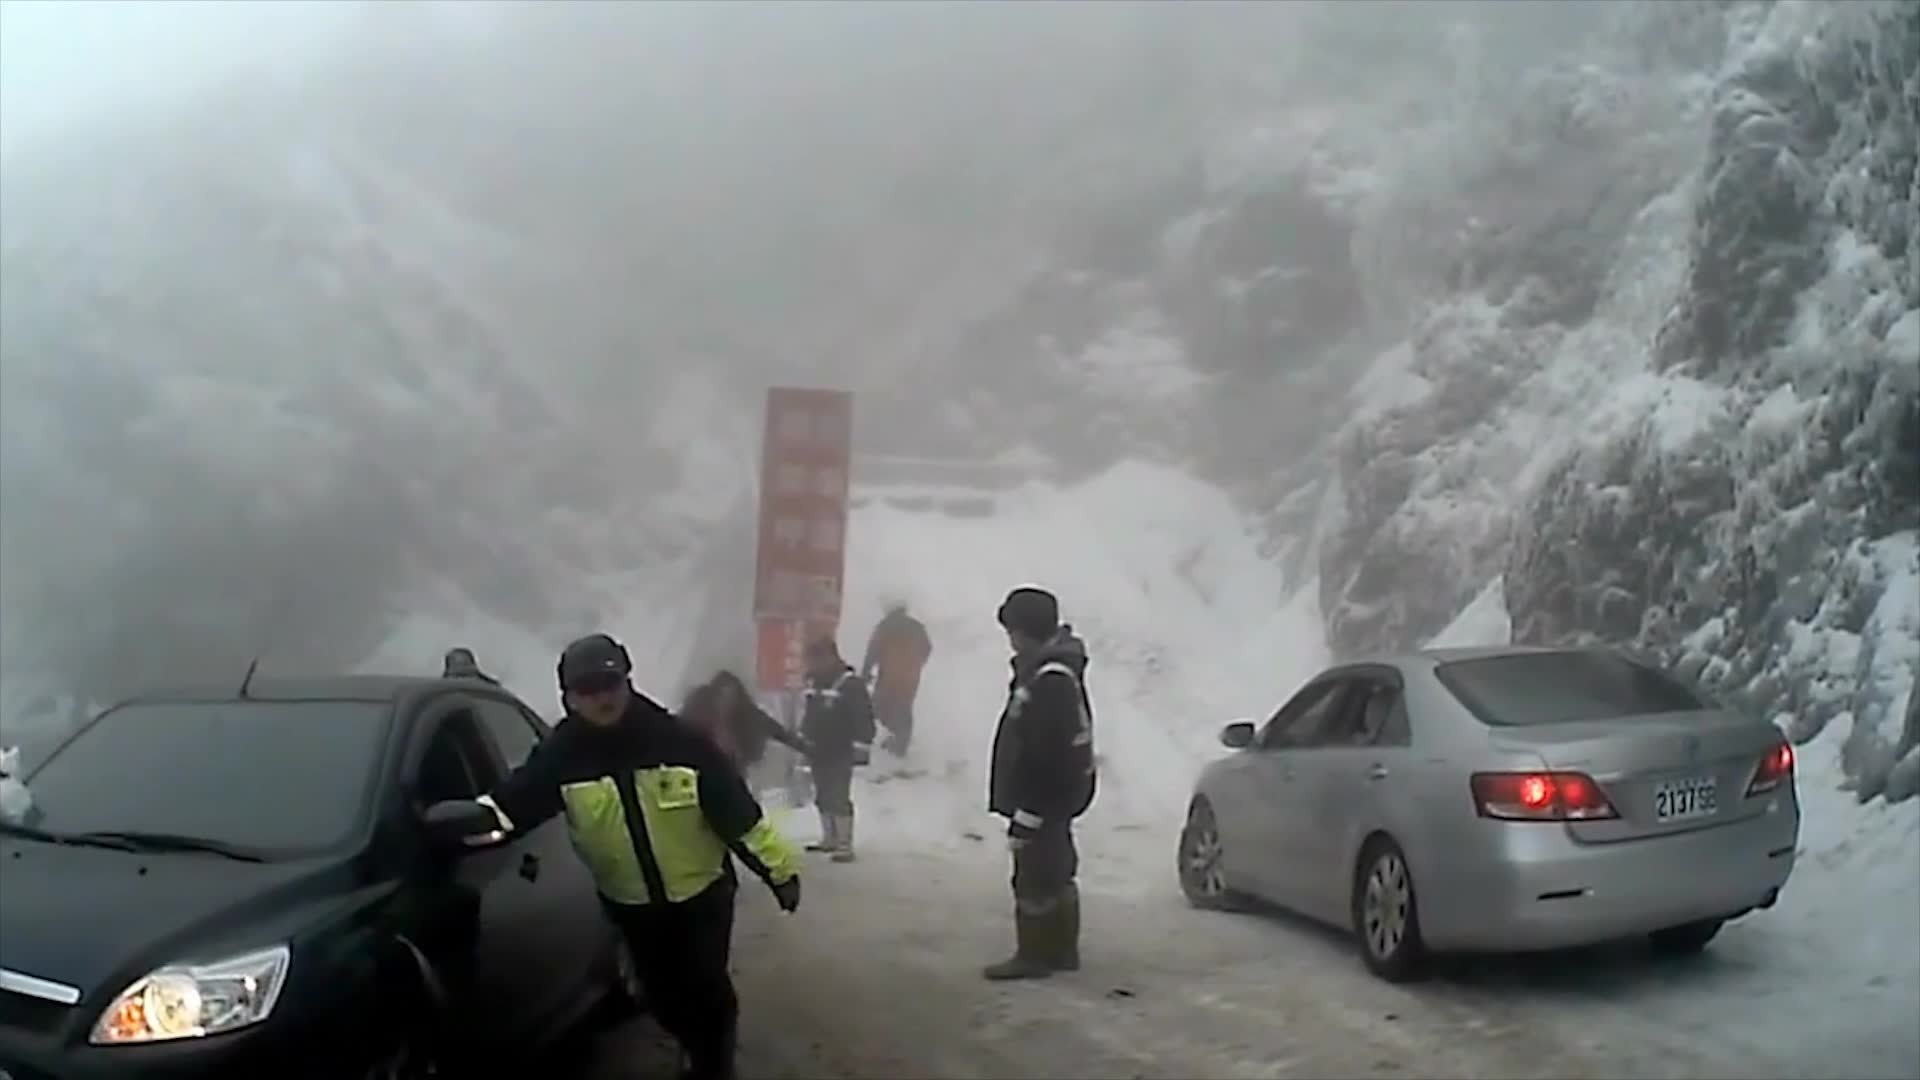pedestrian: (443, 635, 804, 1080), (961, 586, 1093, 982), (673, 673, 817, 910), (791, 634, 869, 861), (858, 587, 933, 756)
vehicle: (0, 673, 679, 1080), (1162, 640, 1795, 983)
